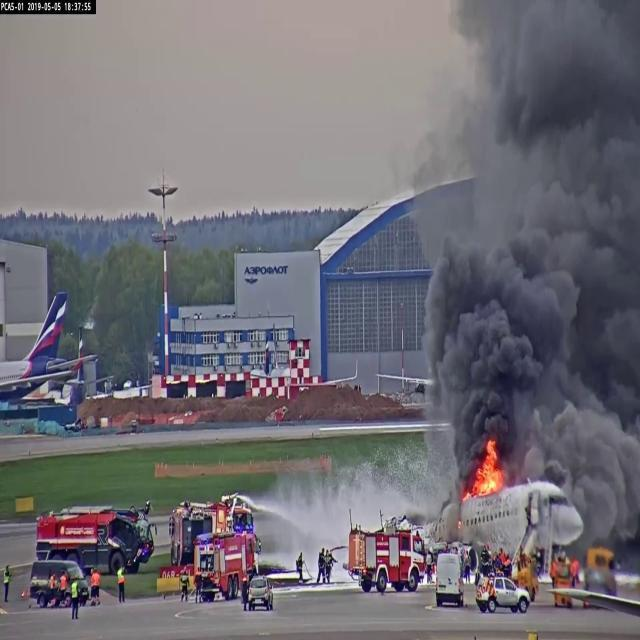Fire: (467, 446, 507, 504)
Smoke: (495, 14, 640, 258), (429, 241, 529, 443), (539, 402, 640, 485)
